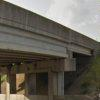Bridge: (1, 3, 91, 94)
